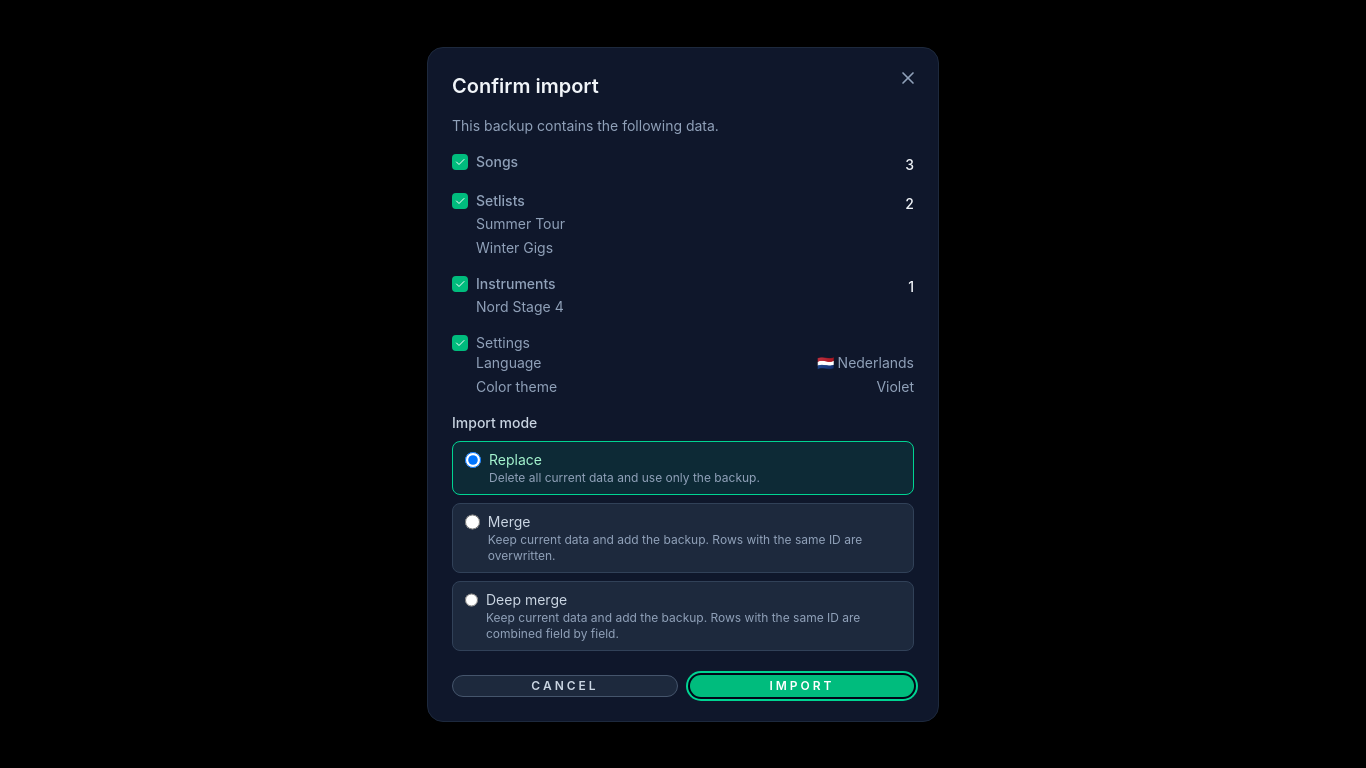
Scenario: ImportSummaryDialog › selecting what to import › warns that setlists refer to songs when importing setlists without songs
This screenshot has width=1366, height=768.
Expected: the list item "Nord Stage 4" is shown, [476,298,564,314]
Click the checkbox labelled "Songs".
click(460, 162)  # box [452,154,468,170]
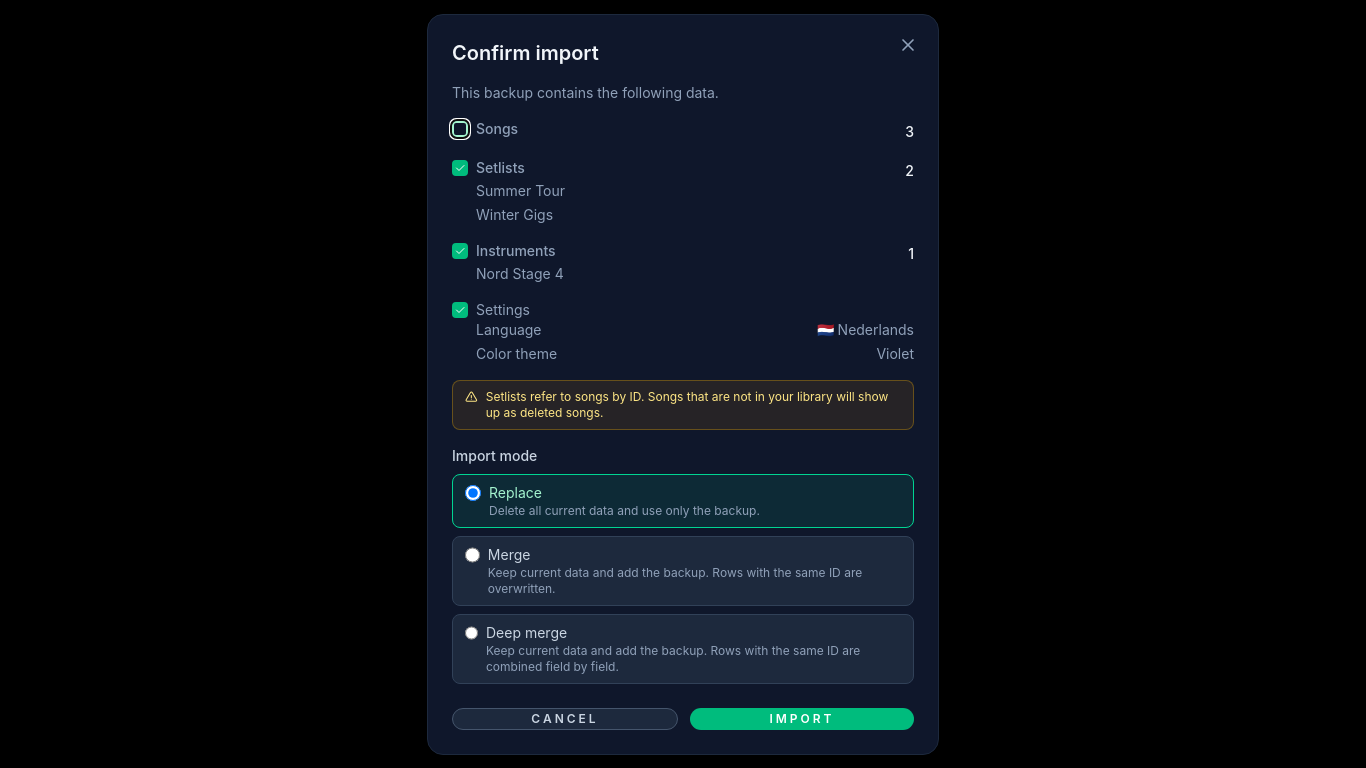
Now the message shows "Setlists refer to songs by ID", box [486,388,888,420]
Click the checkbox labelled "Setlists".
click(460, 168)  # box [452,160,468,176]
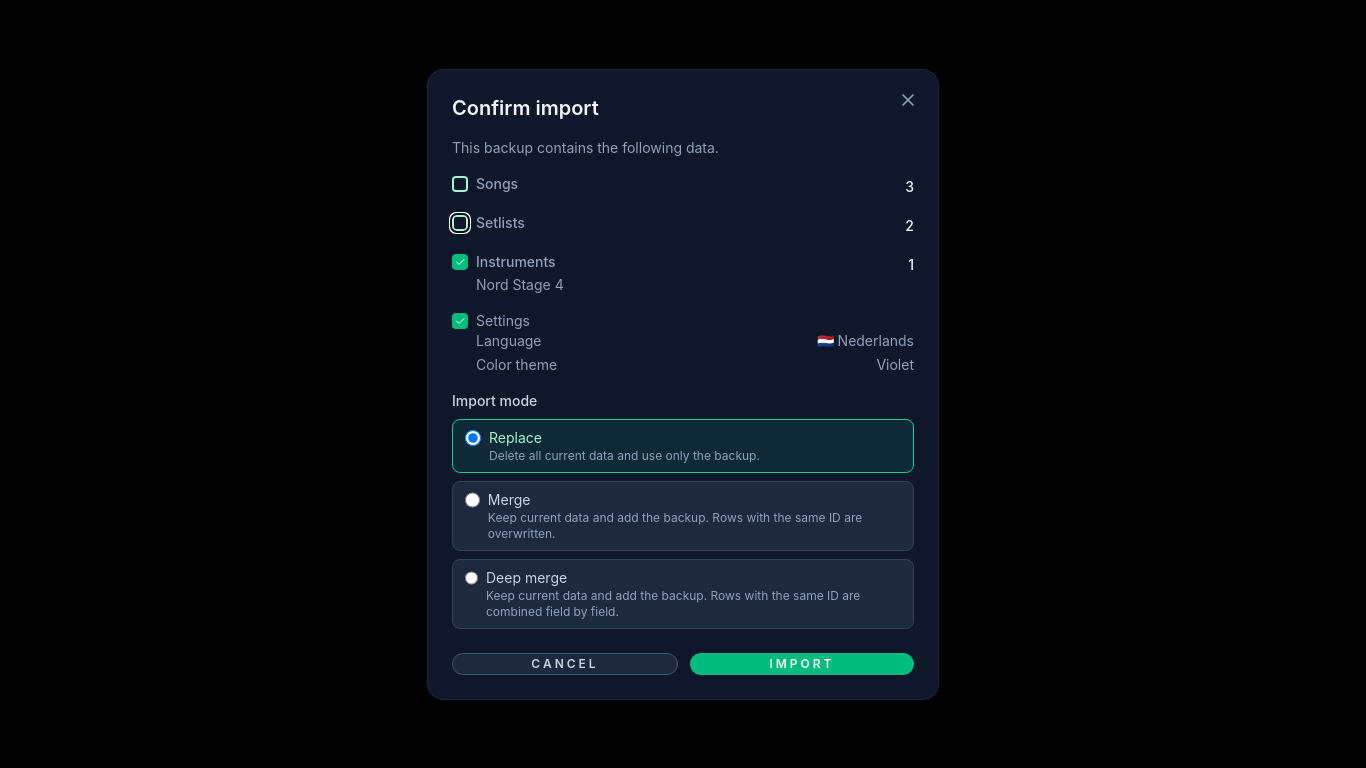
Now the message is gone
